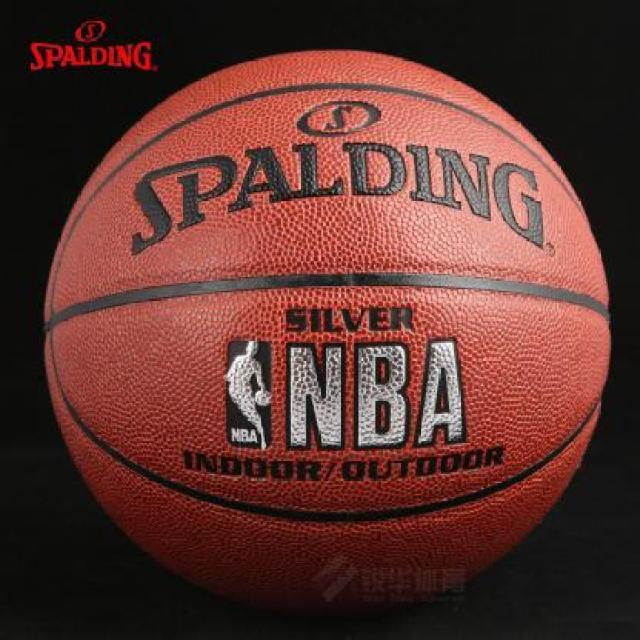basketball: (44, 49, 612, 614)
